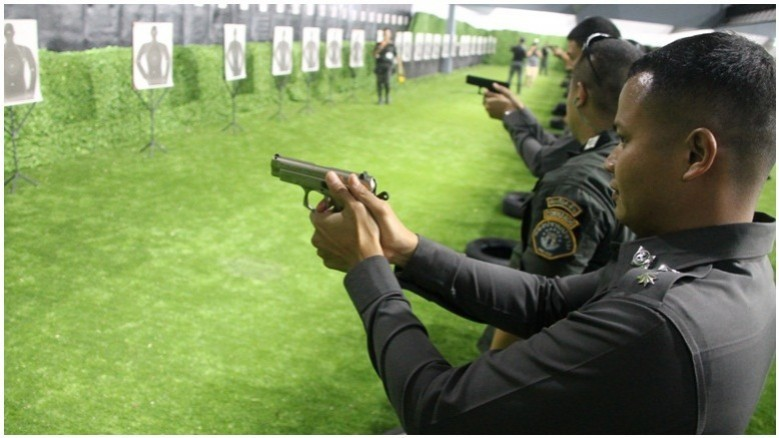gun: (264, 146, 401, 228), (458, 70, 519, 108)
